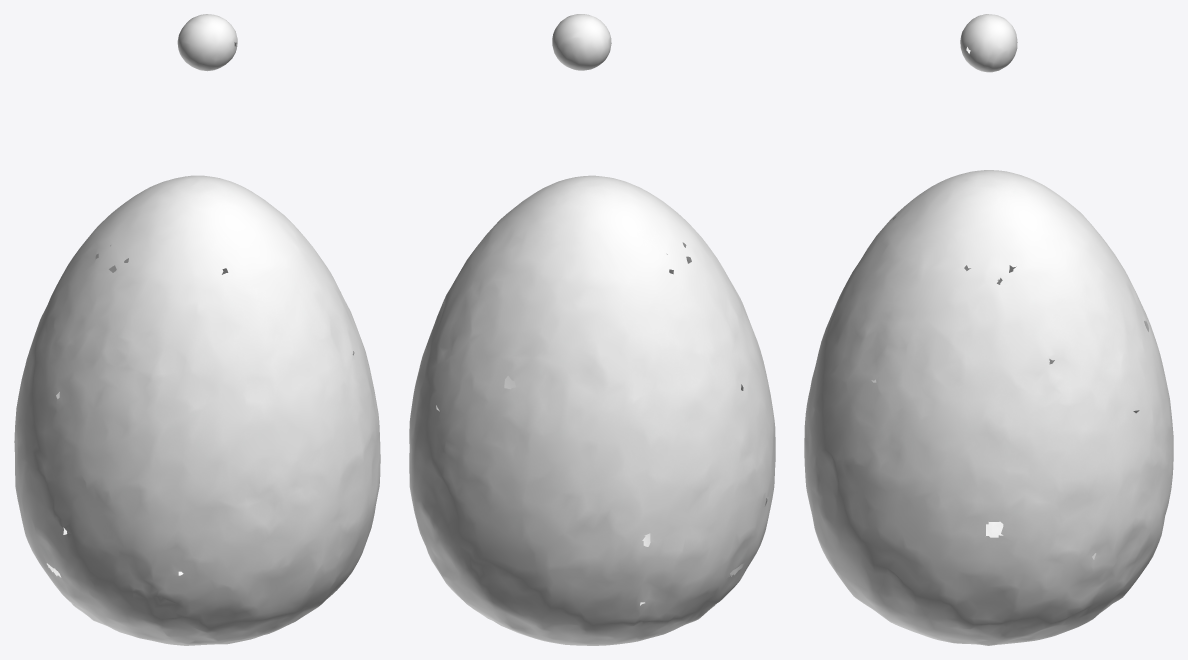
File: egg.glb
3 views of the same model, side by side, from view 1: azimuth 30°, elevation 25°; view 2: azimuth 150°, elevation 25°; view 3: azimuth 270°, elevation 25° (orthographic).
Bounding box in the file's own units: 1.1 × 1.99 × 1.1.
1 material, 1 textured.
